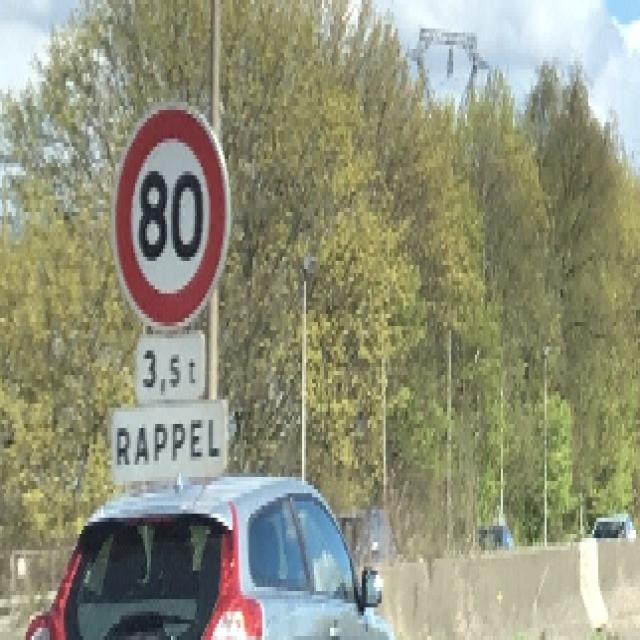speed_80: (112, 100, 234, 334)
